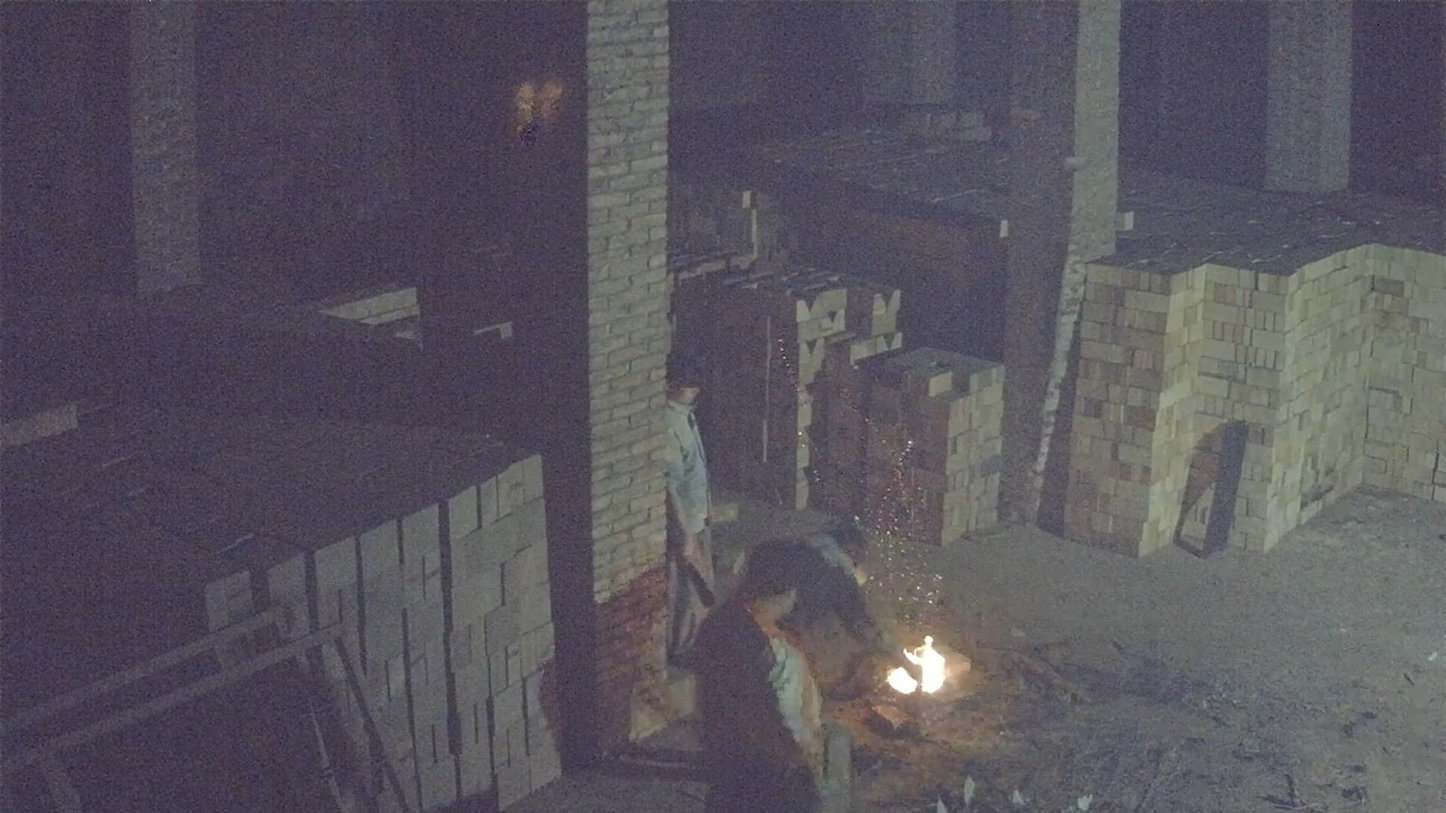fire: (886, 636, 945, 694)
